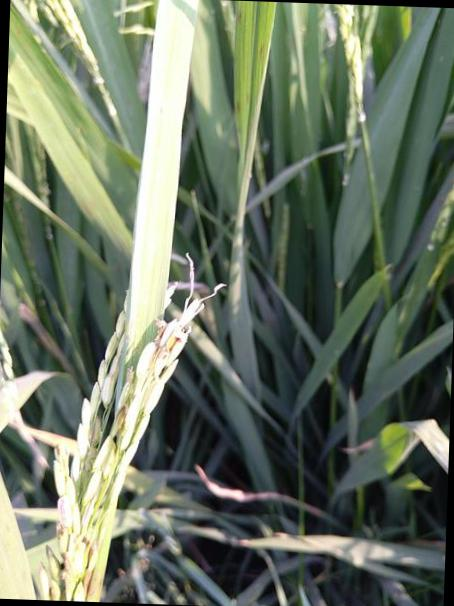Panicle Blight: (136, 284, 227, 412), (53, 447, 82, 545), (30, 549, 74, 601), (110, 404, 127, 446), (83, 551, 92, 601)
